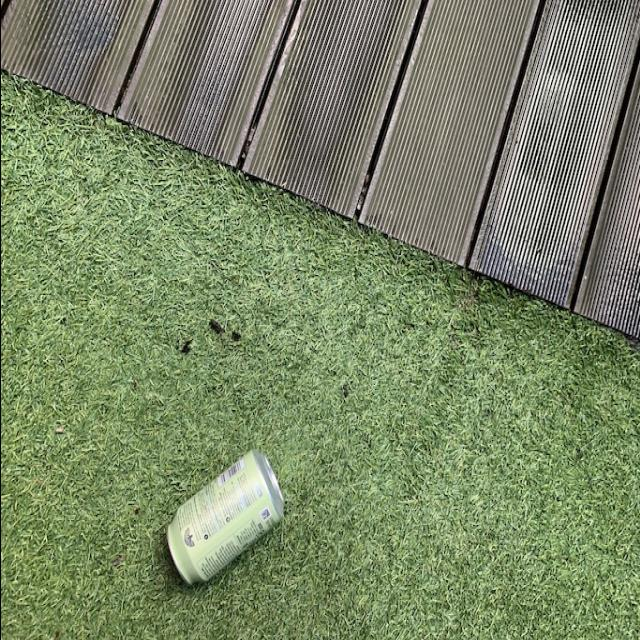Aluminum Can: (154, 450, 286, 598)
